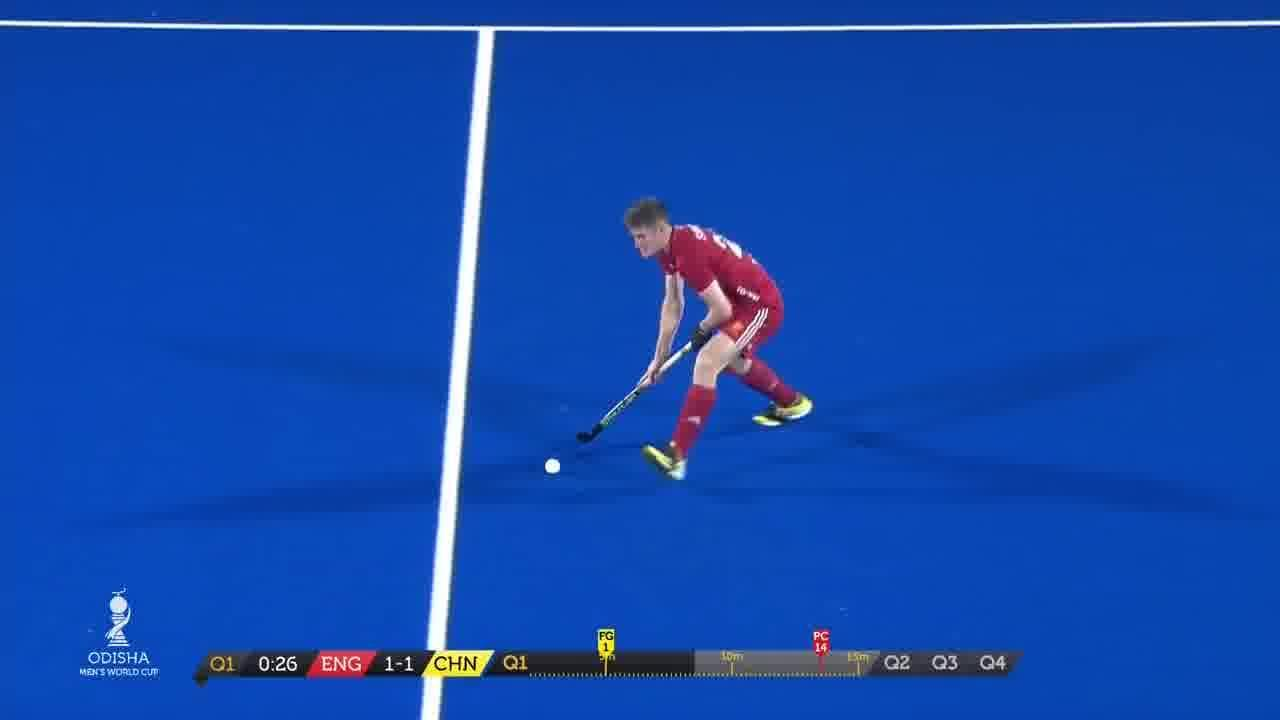ball: (539, 456, 568, 477)
